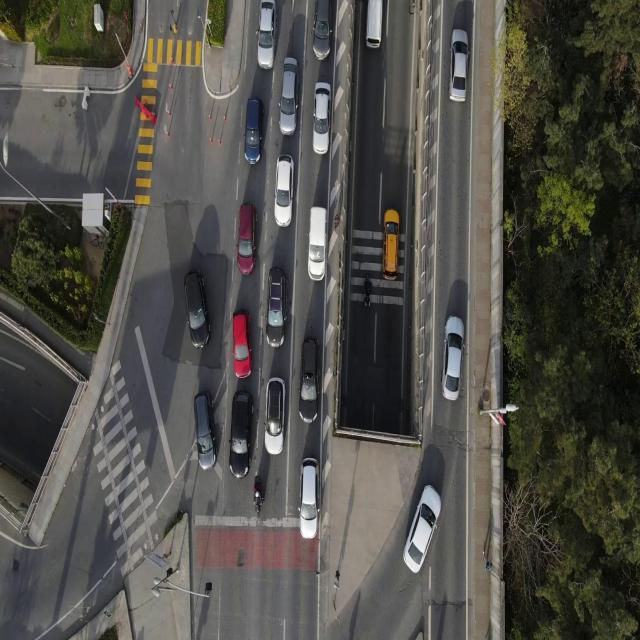p3rson: (482, 549, 492, 572), (333, 213, 341, 229)
